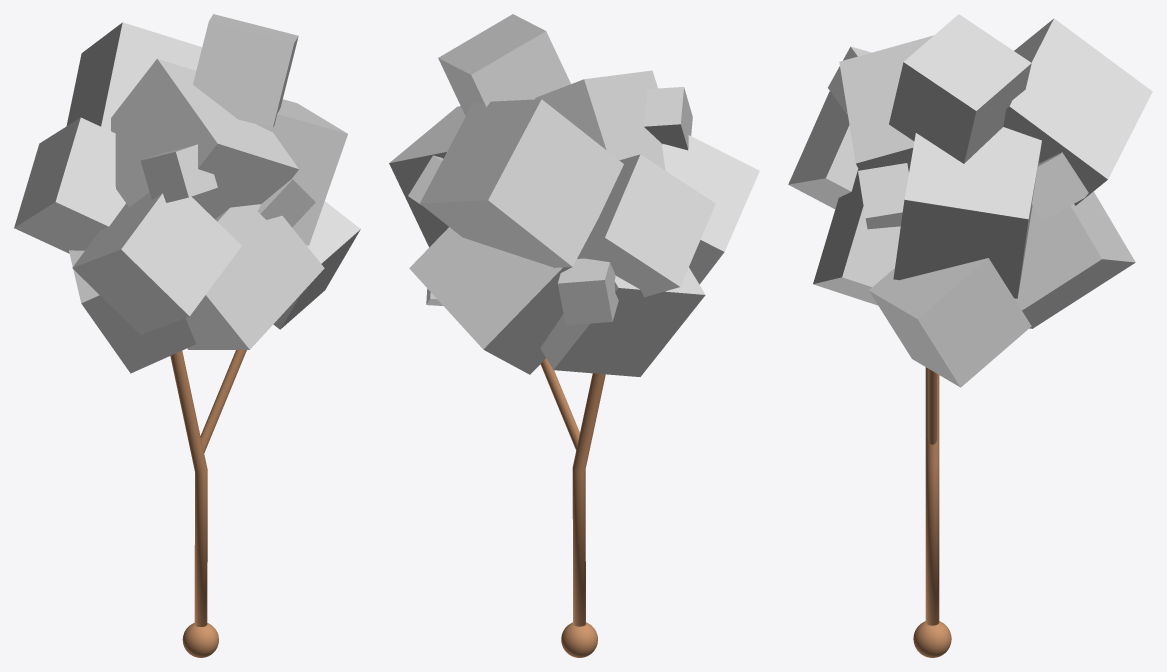
The model's file is crystal rock tree.fbx.
3 renders of one model, left to right at view 1: azimuth 30°, elevation 25°; view 2: azimuth 150°, elevation 25°; view 3: azimuth 270°, elevation 25°, orthographic. The views are drawn at different scales.
Visible parts, largest first — view 1: Cube.012; view 2: Cube.012; view 3: Cube.012.
Boxes of the visible parts, box(x1,y1,x2,y2) form: Cube.012: box(14, 14, 360, 657); Cube.012: box(389, 14, 759, 657); Cube.012: box(788, 14, 1152, 657).
Size of the model in its own units: 1203 by 2410 by 1220.
